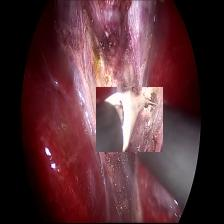Hook: (96, 87, 163, 152)
